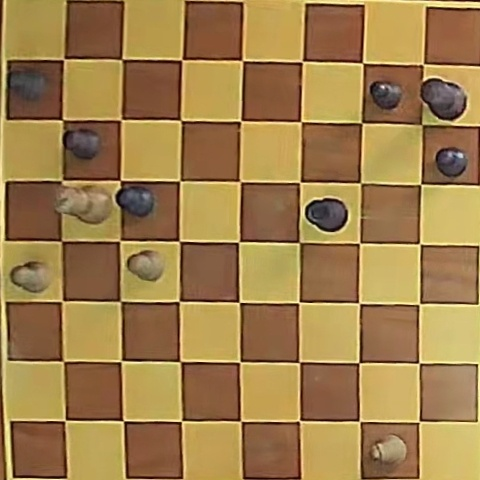black-king: (421, 78, 466, 120)
black-pawn: (8, 69, 47, 101), (117, 185, 155, 217), (64, 129, 100, 159), (435, 147, 467, 177), (370, 81, 403, 109)
black-rook: (306, 198, 348, 233)
white-bishop: (372, 436, 407, 466)
white-king: (55, 185, 111, 223)
white-pawn: (11, 260, 51, 293), (127, 249, 164, 281)
